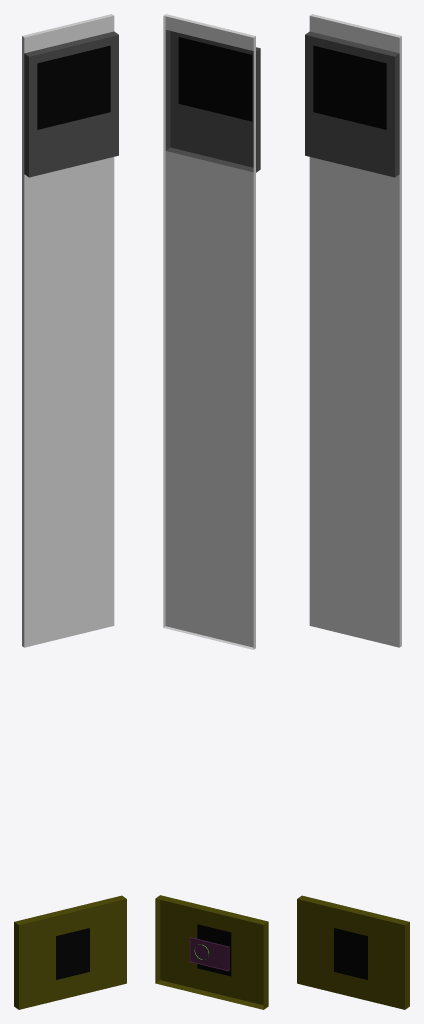
Rendered from vytahPanel.fbx.
The picture shows the model from 3 angles, left to right: view 1: azimuth 30°, elevation 25°; view 2: azimuth 150°, elevation 25°; view 3: azimuth 330°, elevation 25°; orthographic projection.
Parts seen in each view (by area): view 1: Cube, Cube.001; view 2: Cube, Cube.001, Vytah.Tlacitko.Button; view 3: Cube, Cube.001.
Boxes of the visible parts, x1,y1,x2,y2 form: Cube: (22,14,118,647); Cube.001: (14,895,126,1009); Cube: (163,14,260,649); Cube.001: (155,895,268,1009); Vytah.Tlacitko.Button: (189,937,229,971); Cube: (305,14,401,647); Cube.001: (297,895,409,1009).
Bounding box in the file's own units: 22.54 × 193 × 2.57.
